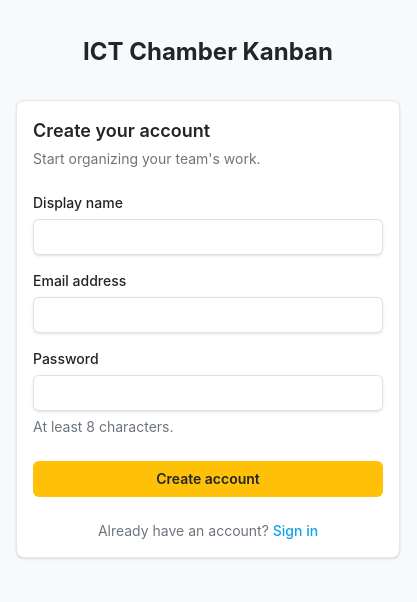
Scenario: RegisterPage › shows validation errors when submitted empty
This screenshot has width=417, height=602.
Click the button "Create account": (208, 479) [33, 461, 383, 497]
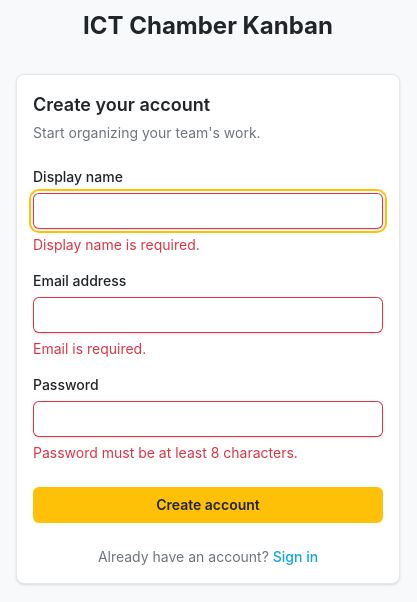
Expected: the text "Display name is required." is shown, [33, 236, 200, 253]
Expected: the text "Email is required." is shown, [33, 340, 146, 357]
Expected: the text "Password must be at least 8 characters." is shown, [33, 444, 298, 461]
